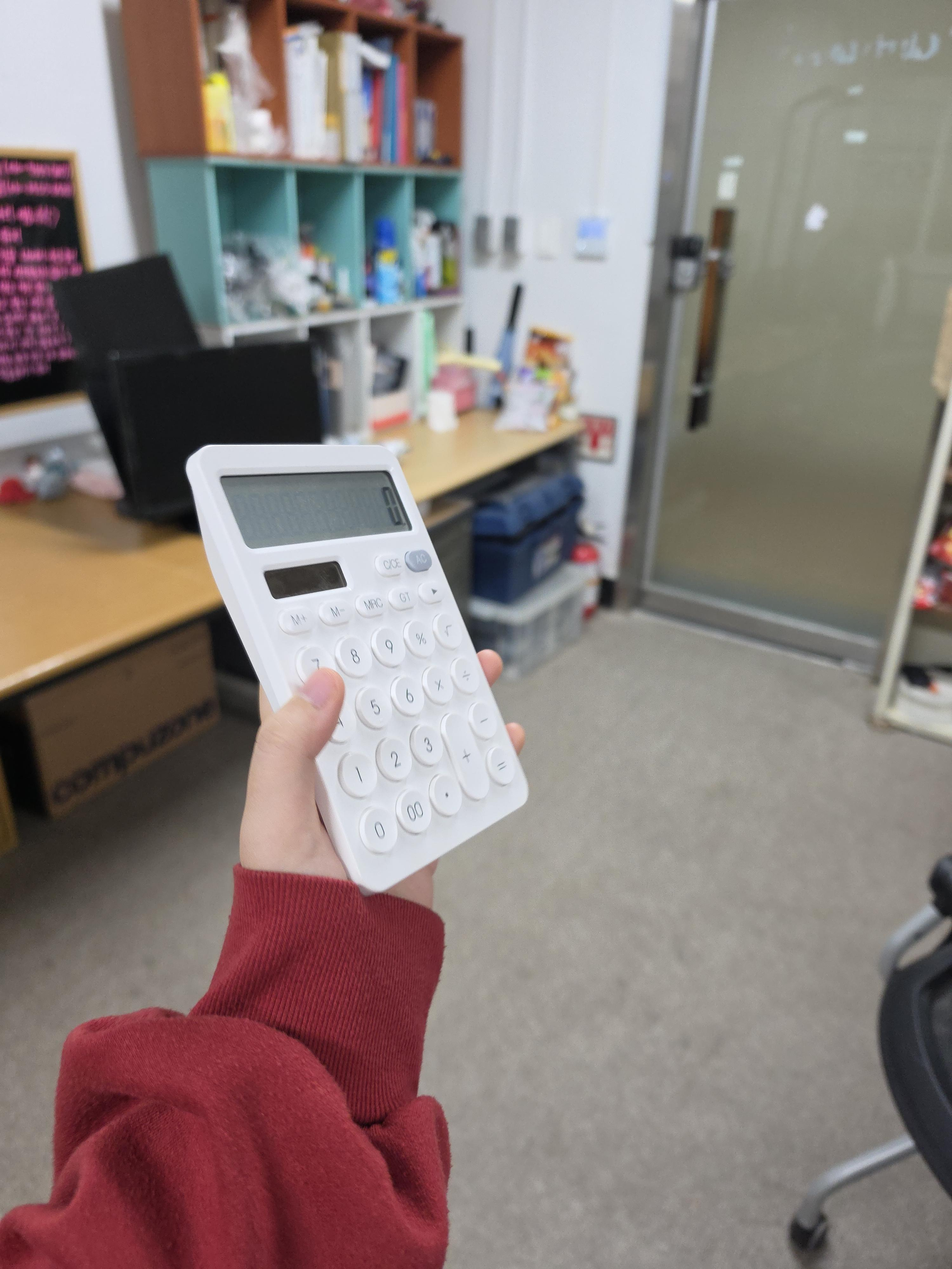calculator: (185, 444, 529, 895)
